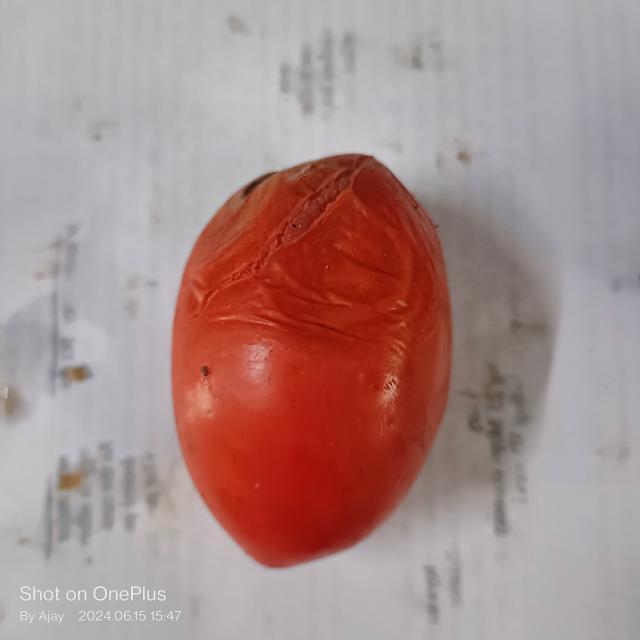Botrytis: (200, 152, 379, 318)
